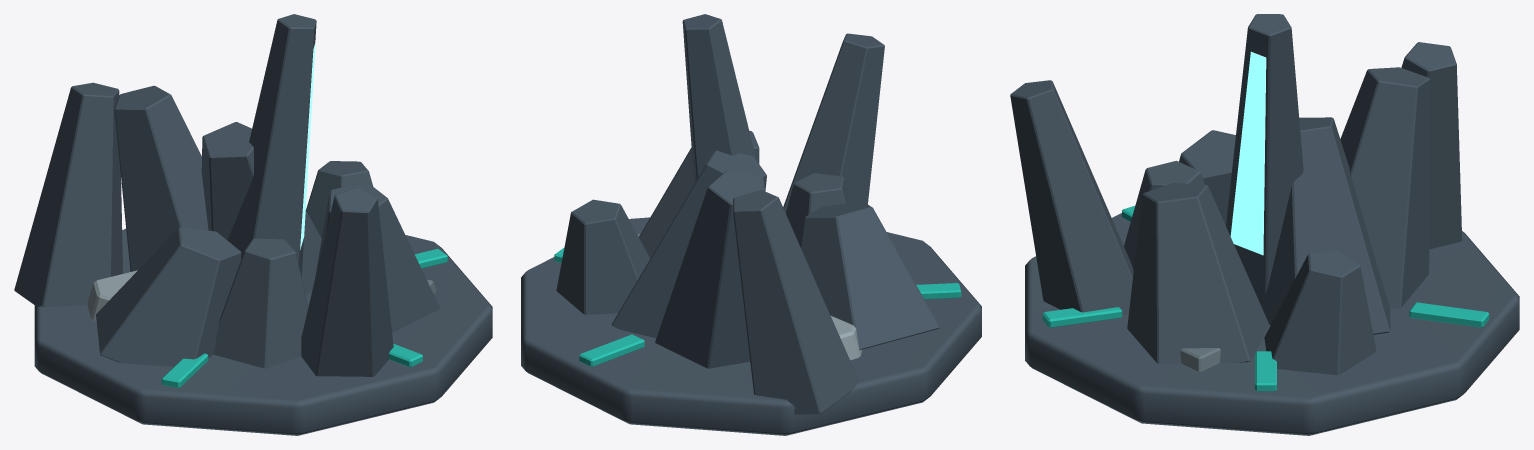
The model's file is SM_Ore.fbx.
3 views of the same model, side by side, from view 1: azimuth 30°, elevation 25°; view 2: azimuth 150°, elevation 25°; view 3: azimuth 270°, elevation 25° (orthographic). The views are drawn at different scales.
Parts seen in each view (by area): view 1: SM_Ore; view 2: SM_Ore; view 3: SM_Ore.
Boxes of the visible parts, left/top/right/bottom form: SM_Ore: left=14, top=14, right=492, bottom=435; SM_Ore: left=521, top=14, right=981, bottom=435; SM_Ore: left=1010, top=14, right=1519, bottom=435.
Size of the model in its own units: 88.73 by 90 by 65.
